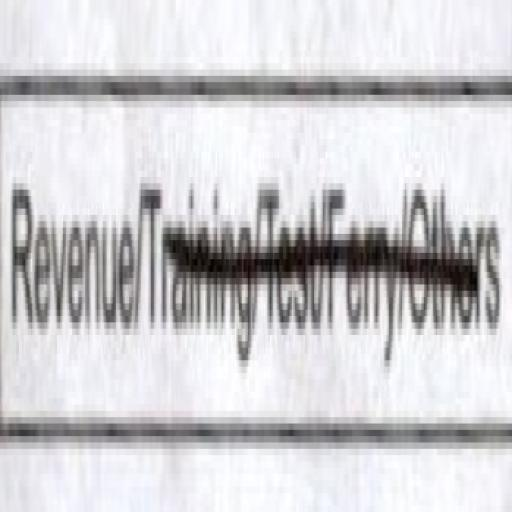check: (0, 38, 139, 512)
